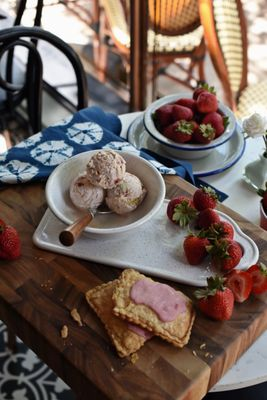salad: (138, 147, 230, 204)
sushi: (142, 85, 245, 169)
